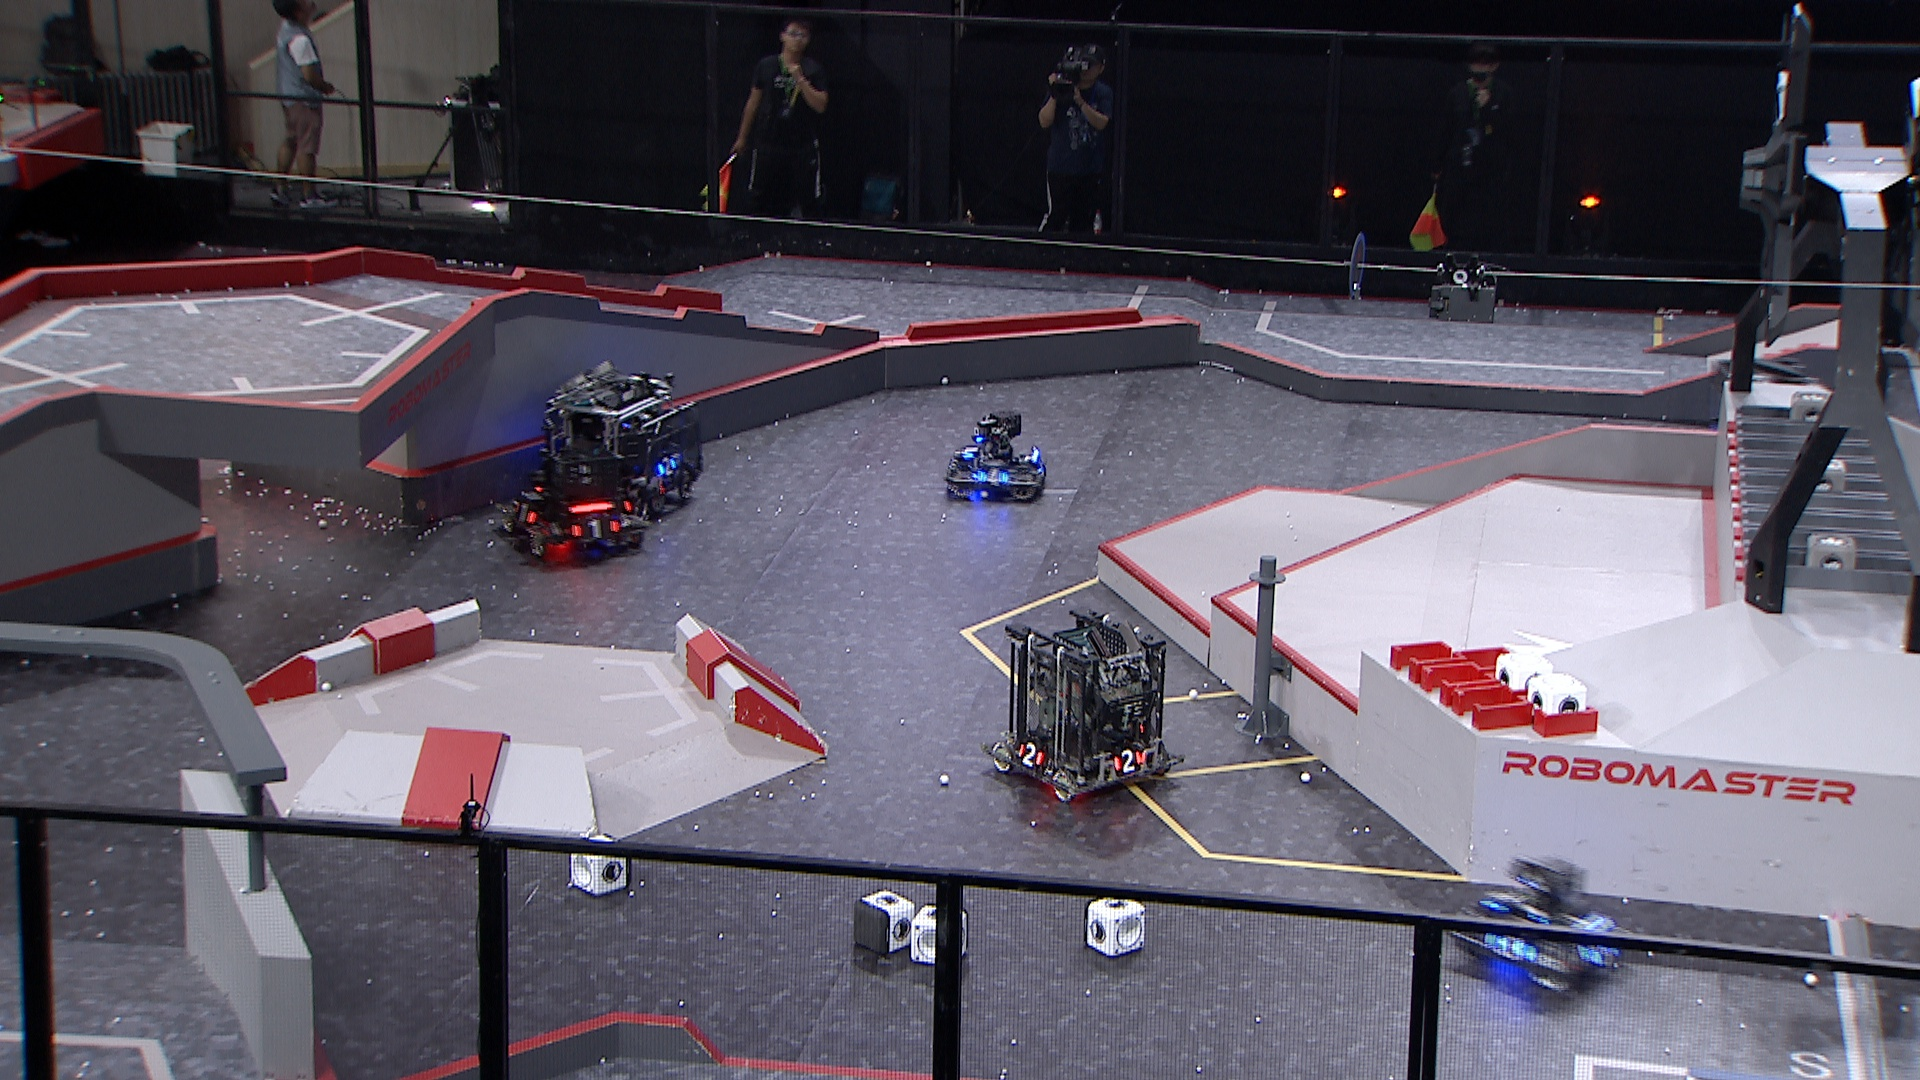armor: (1481, 930, 1538, 964), (568, 518, 618, 541), (1019, 738, 1050, 774), (1584, 943, 1621, 968), (1110, 749, 1145, 774), (512, 504, 539, 529), (975, 469, 1010, 488), (651, 456, 680, 477), (957, 444, 978, 462)
car: (988, 605, 1185, 802), (1444, 851, 1629, 994), (539, 361, 703, 506), (495, 438, 651, 566), (942, 407, 1054, 501)
